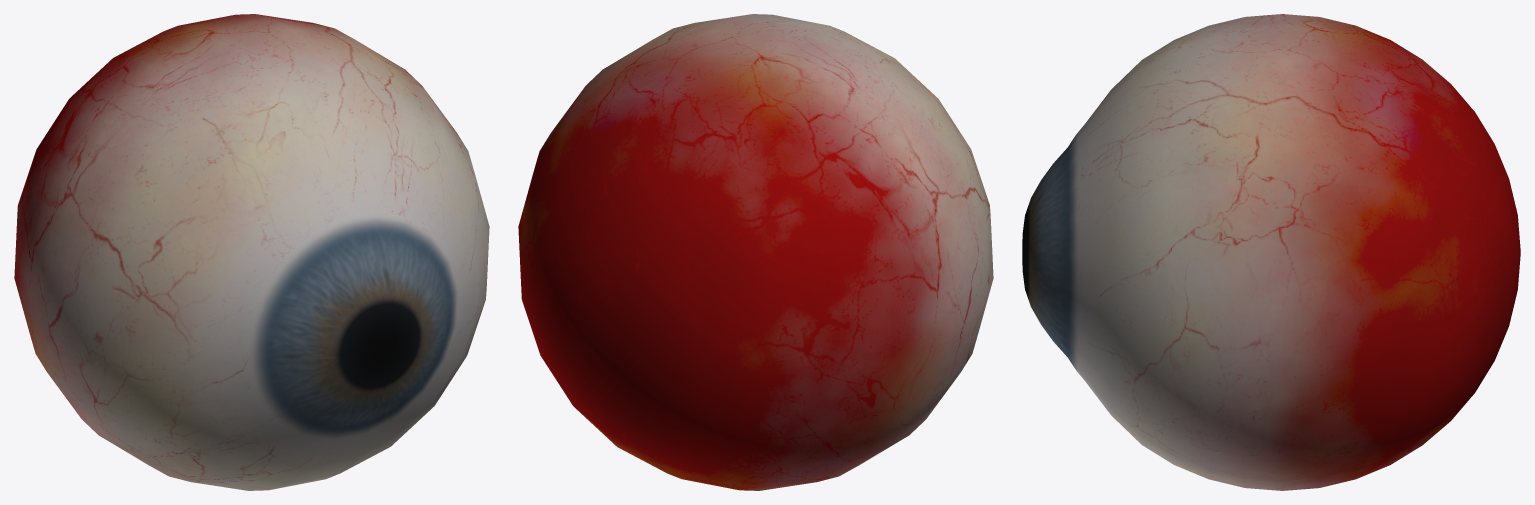
The model's file is eye.glb.
3 renders of one model, left to right at view 1: azimuth 30°, elevation 25°; view 2: azimuth 150°, elevation 25°; view 3: azimuth 270°, elevation 25°, orthographic.
Visible parts, largest first — view 1: eye_low.001; view 2: eye_low.001; view 3: eye_low.001.
Part boxes in pixels (x1=…): eye_low.001: x1=14, y1=14, x2=489, y2=490; eye_low.001: x1=518, y1=14, x2=993, y2=490; eye_low.001: x1=1022, y1=14, x2=1520, y2=490.
Size of the model in its own units: 0.0225 by 0.0225 by 0.0237.
Materials: 1 (1 with a texture image).
